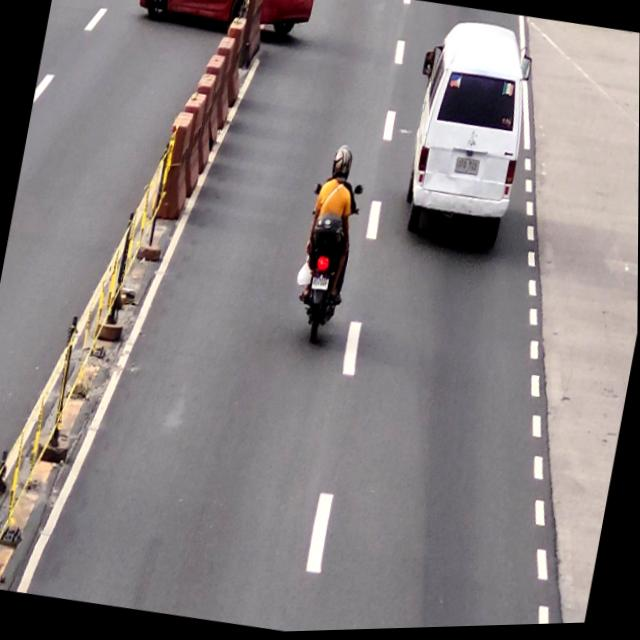Car: (396, 17, 535, 247)
License-Plate: (452, 157, 483, 178), (306, 272, 332, 297)
Motorcycle: (291, 145, 368, 357)
